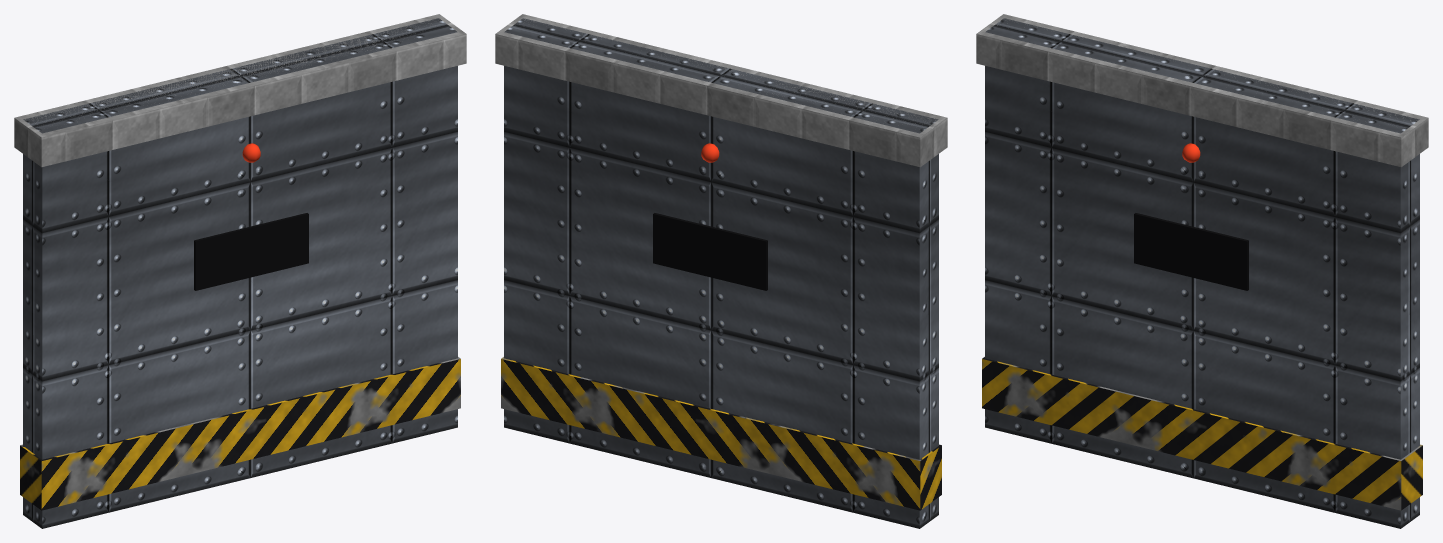
File: door.obj
3 views of the same model, side by side, from view 1: azimuth 30°, elevation 25°; view 2: azimuth 150°, elevation 25°; view 3: azimuth 330°, elevation 25° (orthographic).
Bounding box in the file's own units: 4.5 × 4 × 0.5754.
Materials: 5 (3 with a texture image).
